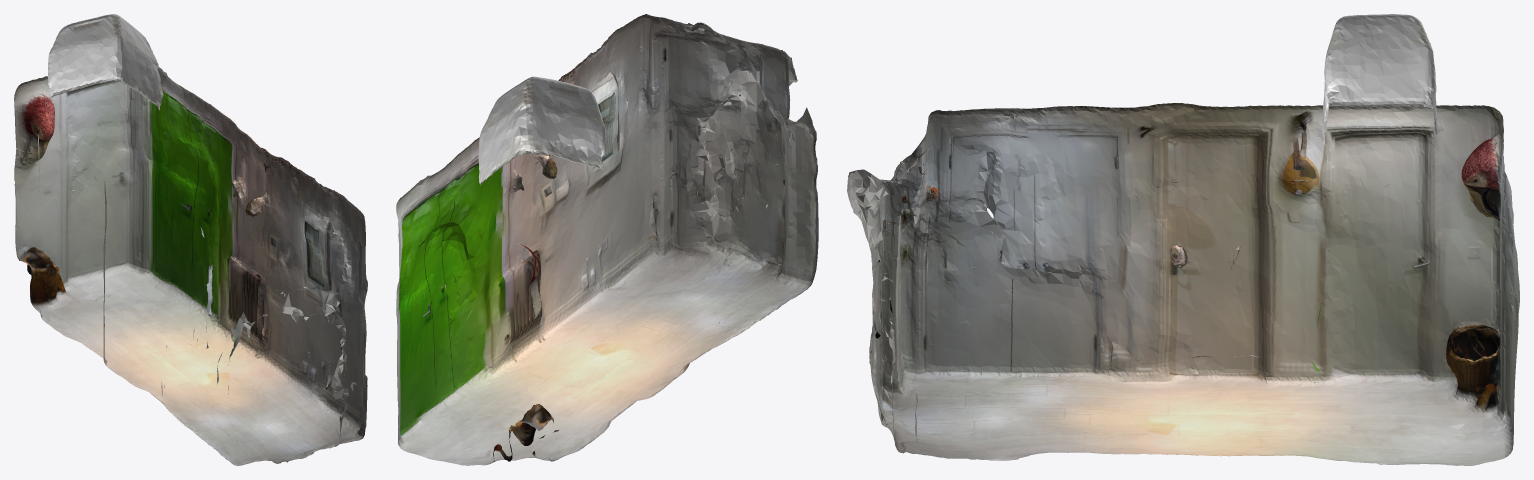
The model's file is hall-scan.glb.
The picture shows the model from 3 angles, left to right: view 1: azimuth 30°, elevation 25°; view 2: azimuth 150°, elevation 25°; view 3: azimuth 270°, elevation 25°; orthographic projection. The views are drawn at different scales.
Bounding box in the file's own units: 1.79 × 3.26 × 5.12.
Materials: 3 (3 with a texture image).
